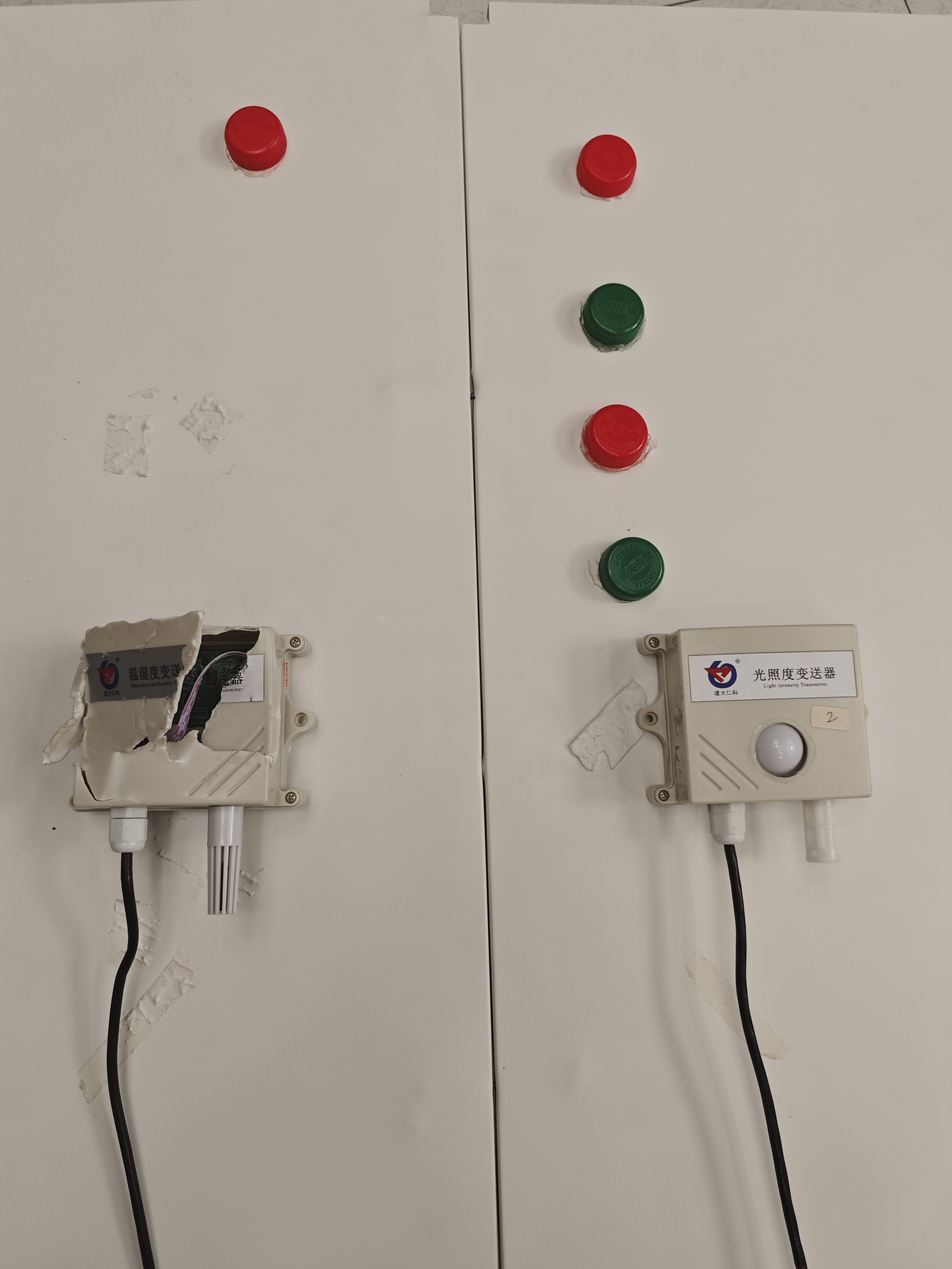red_warning: (187, 84, 362, 204), (558, 108, 660, 245), (562, 364, 674, 488)
sensor_damage: (32, 576, 345, 958)
